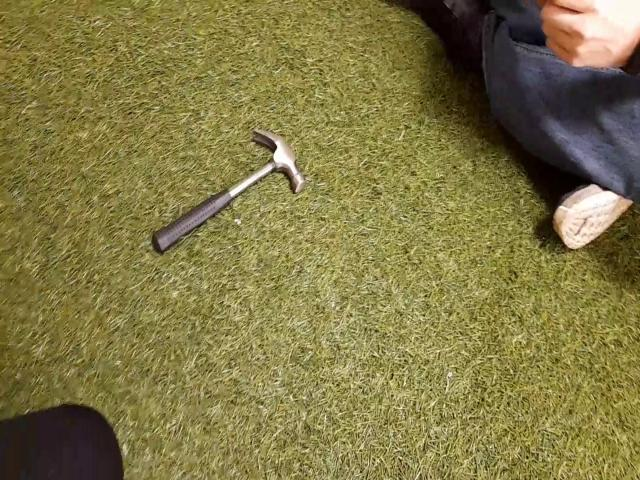Hammer: (152, 128, 306, 252)
Hand: (538, 0, 640, 73)
